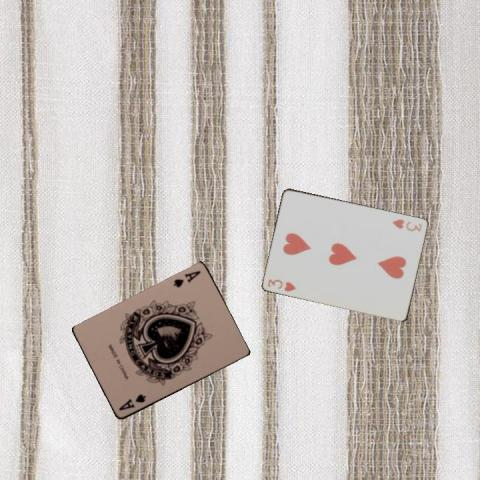3h: (390, 216, 424, 233), (265, 276, 297, 293)
As: (116, 391, 148, 412), (170, 268, 202, 289)
